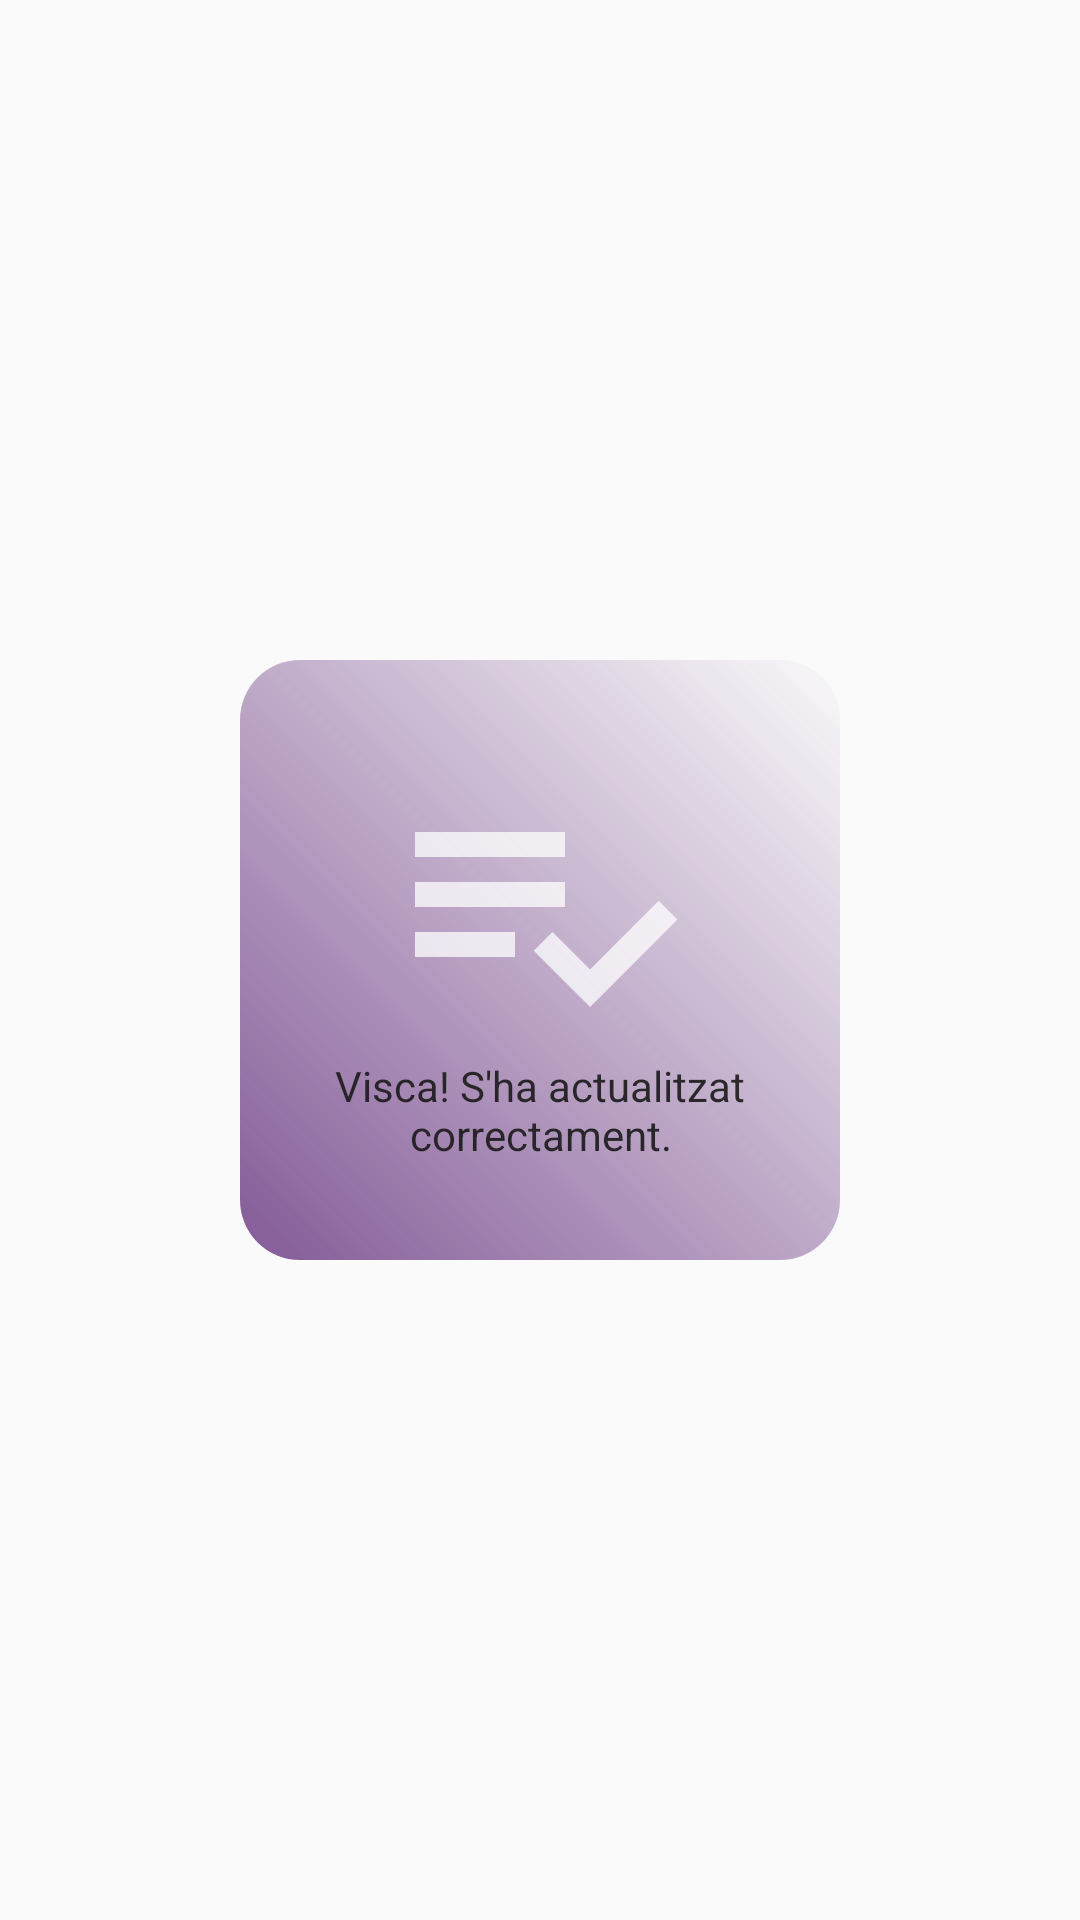

Icons on this 1080w x 1920h Android screen, each with the point to tap as point (x, y):
added: point (540, 907)
